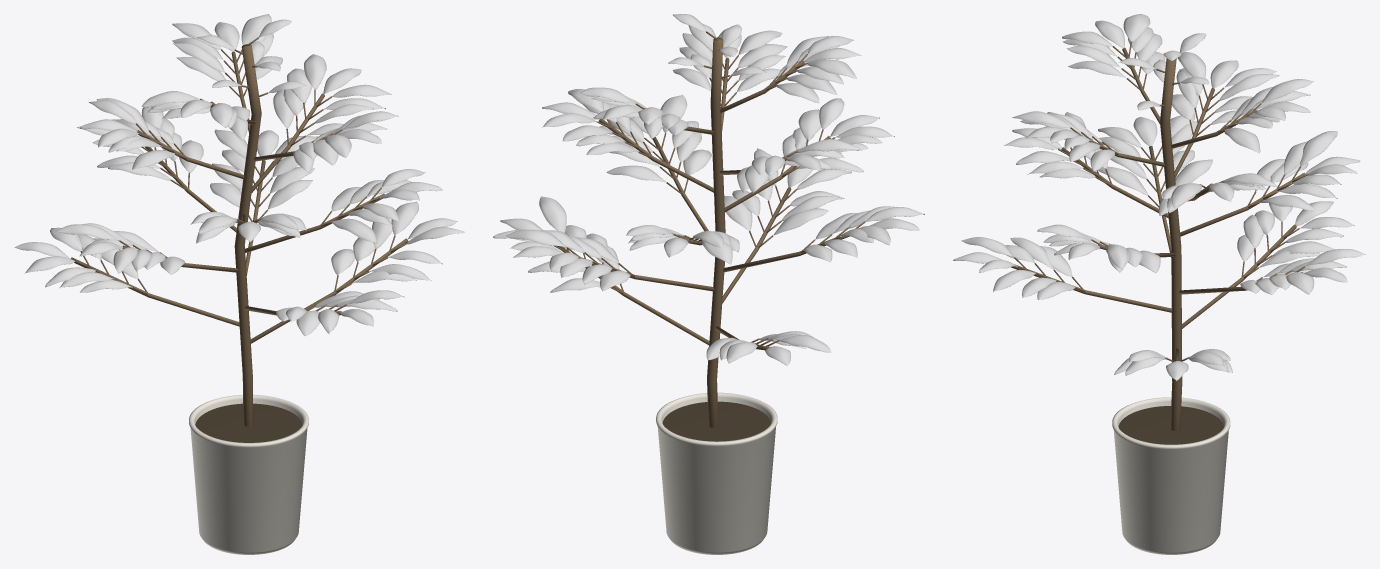
File: plant-ficus-detailed.glb
3 views of the same model, side by side, from view 1: azimuth 30°, elevation 25°; view 2: azimuth 150°, elevation 25°; view 3: azimuth 270°, elevation 25° (orthographic). The views are drawn at different scales.
Parts seen in each view (by area): view 1: Rounded ceramic planter, Gently bent woody trunk, Recessed potting soil, Rising ficus branch.001, Rising ficus branch, Rising ficus branch.005, Curved pointed ficus leaf.071, Curved pointed ficus leaf.040, Curved pointed ficus leaf.091, Curved pointed ficus leaf.024, Curved pointed ficus leaf.038; view 2: Rounded ceramic planter, Gently bent woody trunk, Recessed potting soil, Curved pointed ficus leaf.006, Rising ficus branch.008, Curved pointed ficus leaf.016, Curved pointed ficus leaf.030, Rising ficus branch, Rising ficus branch.002, Curved pointed ficus leaf.041, Curved pointed ficus leaf.017, Curved pointed ficus leaf.084 (+2 smaller); view 3: Rounded ceramic planter, Gently bent woody trunk, Recessed potting soil, Curved pointed ficus leaf.055, Rising ficus branch.002, Rising ficus branch.001, Curved pointed ficus leaf.033, Rising ficus branch.006, Curved pointed ficus leaf.032, Curved pointed ficus leaf.076, Curved pointed ficus leaf.095, Curved pointed ficus leaf.102 (+5 smaller).
Part boxes in pixels (box(x1,y1,x2,y2)): Rounded ceramic planter: box(189, 394, 308, 554); Gently bent woody trunk: box(234, 44, 261, 426); Recessed potting soil: box(195, 403, 302, 442); Rising ficus branch.001: box(71, 257, 239, 326); Rising ficus branch: box(250, 238, 408, 343); Rising ficus branch.005: box(244, 193, 384, 252); Curved pointed ficus leaf.071: box(304, 54, 326, 89); Curved pointed ficus leaf.040: box(331, 218, 376, 242); Curved pointed ficus leaf.091: box(172, 43, 224, 72); Curved pointed ficus leaf.024: box(268, 180, 312, 209); Curved pointed ficus leaf.038: box(54, 224, 119, 241); Rounded ceramic planter: box(656, 392, 777, 554); Gently bent woody trunk: box(707, 37, 725, 427); Recessed potting soil: box(662, 401, 770, 441); Curved pointed ficus leaf.006: box(539, 196, 566, 232); Rising ficus branch.008: box(599, 119, 713, 192); Curved pointed ficus leaf.016: box(773, 208, 828, 235); Curved pointed ficus leaf.030: box(505, 229, 566, 247); Rising ficus branch: box(557, 246, 709, 345); Rising ficus branch.002: box(722, 187, 791, 303); Curved pointed ficus leaf.041: box(606, 165, 666, 182); Curved pointed ficus leaf.017: box(724, 196, 752, 230); Curved pointed ficus leaf.084: box(738, 44, 787, 67); Rounded ceramic planter: box(1112, 397, 1230, 554); Gently bent woody trunk: box(1160, 58, 1182, 430); Recessed potting soil: box(1118, 406, 1223, 444); Curved pointed ficus leaf.055: box(1300, 131, 1337, 166); Rising ficus branch.002: box(1011, 264, 1172, 312); Rising ficus branch.001: box(1182, 224, 1296, 328); Curved pointed ficus leaf.033: box(1098, 166, 1148, 195); Rising ficus branch.006: box(1180, 172, 1305, 236); Curved pointed ficus leaf.032: box(1175, 159, 1212, 185); Curved pointed ficus leaf.076: box(1219, 74, 1279, 100); Curved pointed ficus leaf.095: box(1261, 79, 1313, 103); Curved pointed ficus leaf.102: box(1123, 14, 1150, 41).
Size of the model in its own units: 1.07 by 1.3 by 0.9754.
